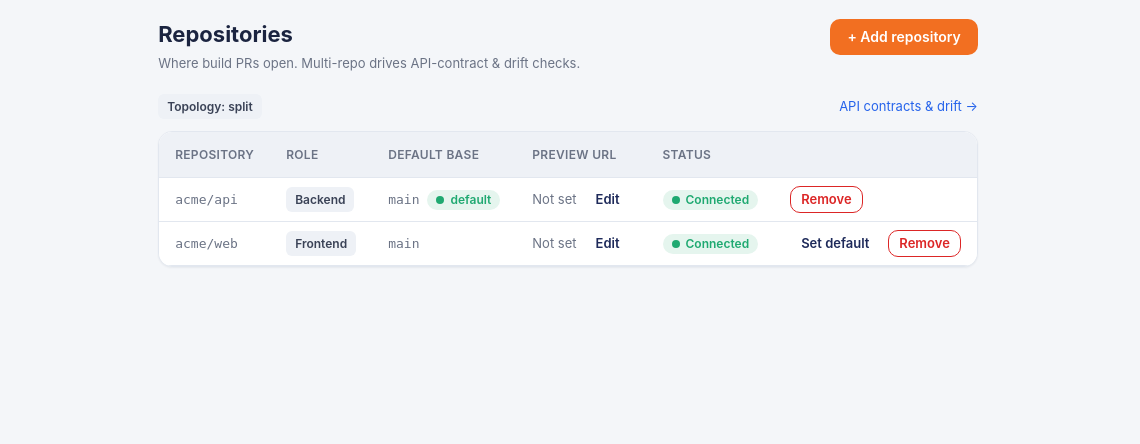
Test: the add form › can be closed without adding anything
Expected: the text "acme/web" is shown, [175,236,238,251]
Click the button "+ Add repository".
click(904, 37)  # box [830,19,978,55]
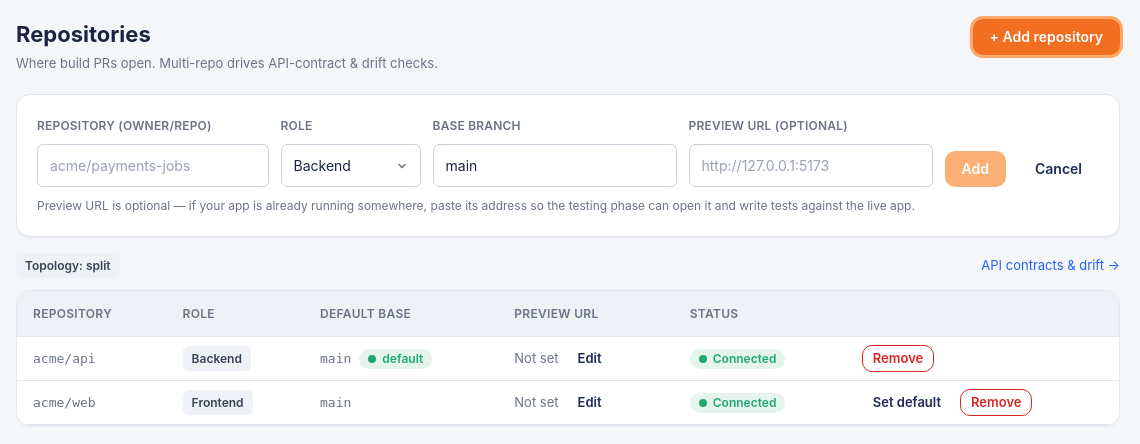
Click the button "Cancel".
click(1058, 169)  # box [1018,151,1099,187]
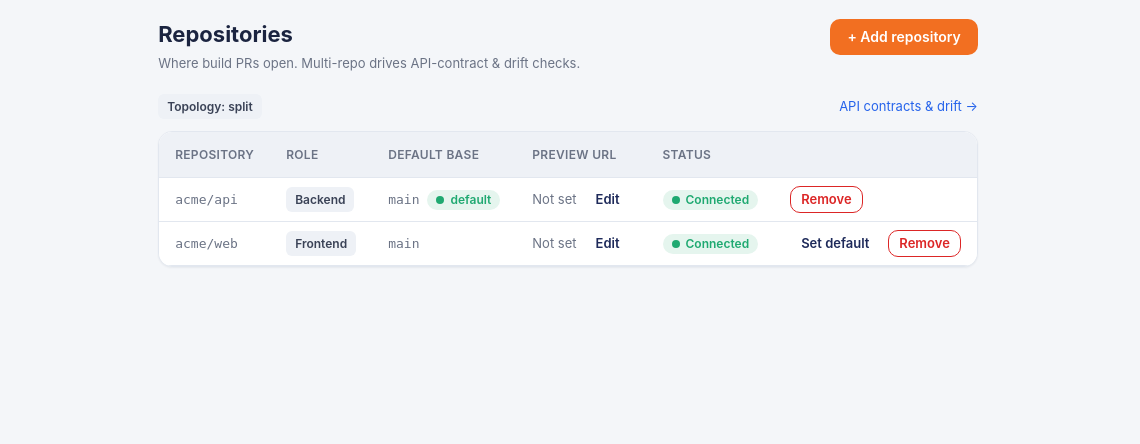
Expected: the field with placeholder "acme/payments-jobs" is gone
